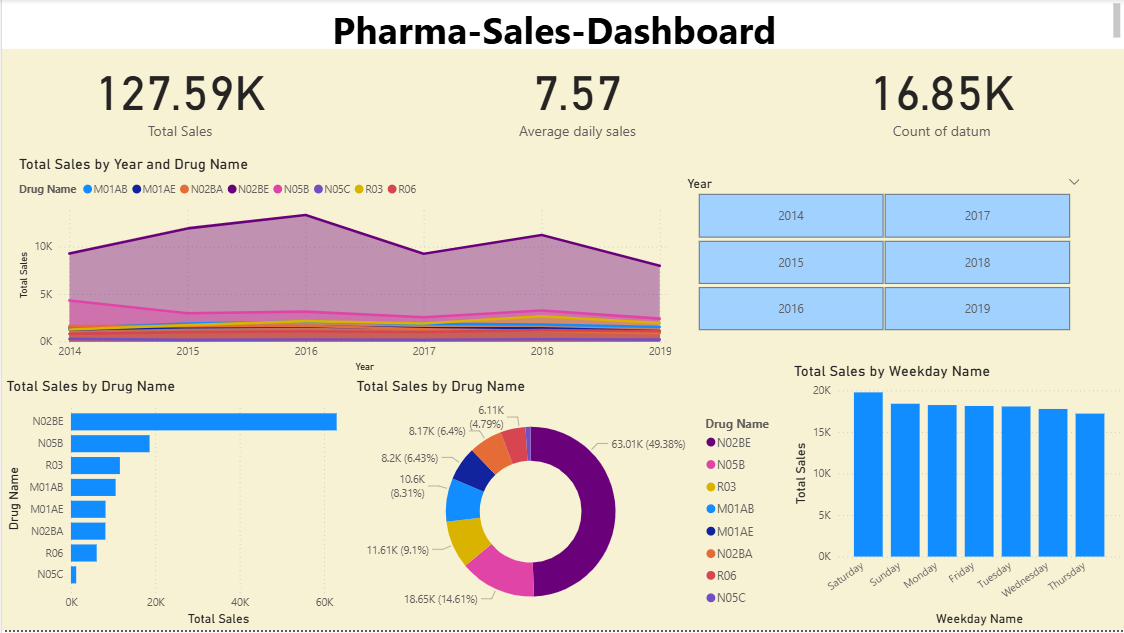

The page's visual inventory and layout, read from the dashboard file:
{"tool":"powerbi","page":{"name":"Page 1","canvas":[1280,720],"ordinal":0},"visuals":[{"type":"card","fields":{"Values":["salesdaily.Total Sales"]},"box":[29.9,57,346.4,109.8],"z":0},{"type":"card","fields":{"Values":["salesdaily.Average daily sales"]},"box":[430.5,57,451.8,109.8],"z":1000},{"type":"card","fields":{"Values":["CountNonNull(salesdaily.datum)"]},"box":[898,57,347.8,109.8],"z":2000},{"type":"clusteredBarChart","fields":{"Category":["salesdaily.Drug Name"],"Y":["salesdaily.Total Sales"]},"box":[0,430.5,430.5,289.4],"z":3000},{"type":"areaChart","fields":{"Category":["salesdaily.Year"],"Y":["salesdaily.Total Sales"],"Series":["salesdaily.Drug Name"]},"box":[14.3,178.2,754,252.3],"z":4000},{"type":"clusteredColumnChart","fields":{"Category":["salesdaily.Weekday Name"],"Y":["salesdaily.Total Sales"]},"box":[898,413.4,382,306.5],"z":5000},{"type":"donutChart","fields":{"Y":["salesdaily.Total Sales"],"Category":["salesdaily.Drug Name"]},"box":[399.1,430.5,498.9,289.4],"z":6000},{"type":"slicer","fields":{"Values":["salesdaily.Year"]},"box":[768.3,196.7,473.2,188.2],"z":7000},{"type":"textbox","box":[0,0,1280,57],"z":8000}]}

Visuals, with their boxes in screenshot pixels (x1, y1, x2, y2), scaled from the page's 1280x720 canvas onto the 1124x633 screenshot:
card - salesdaily.Total Sales: [left=26, top=50, right=330, bottom=147]
card - salesdaily.Average daily sales: [left=378, top=50, right=775, bottom=147]
card - CountNonNull(salesdaily.datum): [left=789, top=50, right=1094, bottom=147]
clusteredBarChart - salesdaily.Drug Name x salesdaily.Total Sales: [left=0, top=378, right=378, bottom=632]
areaChart - salesdaily.Year x salesdaily.Total Sales: [left=13, top=157, right=675, bottom=378]
clusteredColumnChart - salesdaily.Weekday Name x salesdaily.Total Sales: [left=789, top=363, right=1123, bottom=632]
donutChart - salesdaily.Total Sales x salesdaily.Drug Name: [left=350, top=378, right=789, bottom=632]
slicer - salesdaily.Year: [left=675, top=173, right=1090, bottom=338]
textbox: [left=0, top=0, right=1123, bottom=50]
